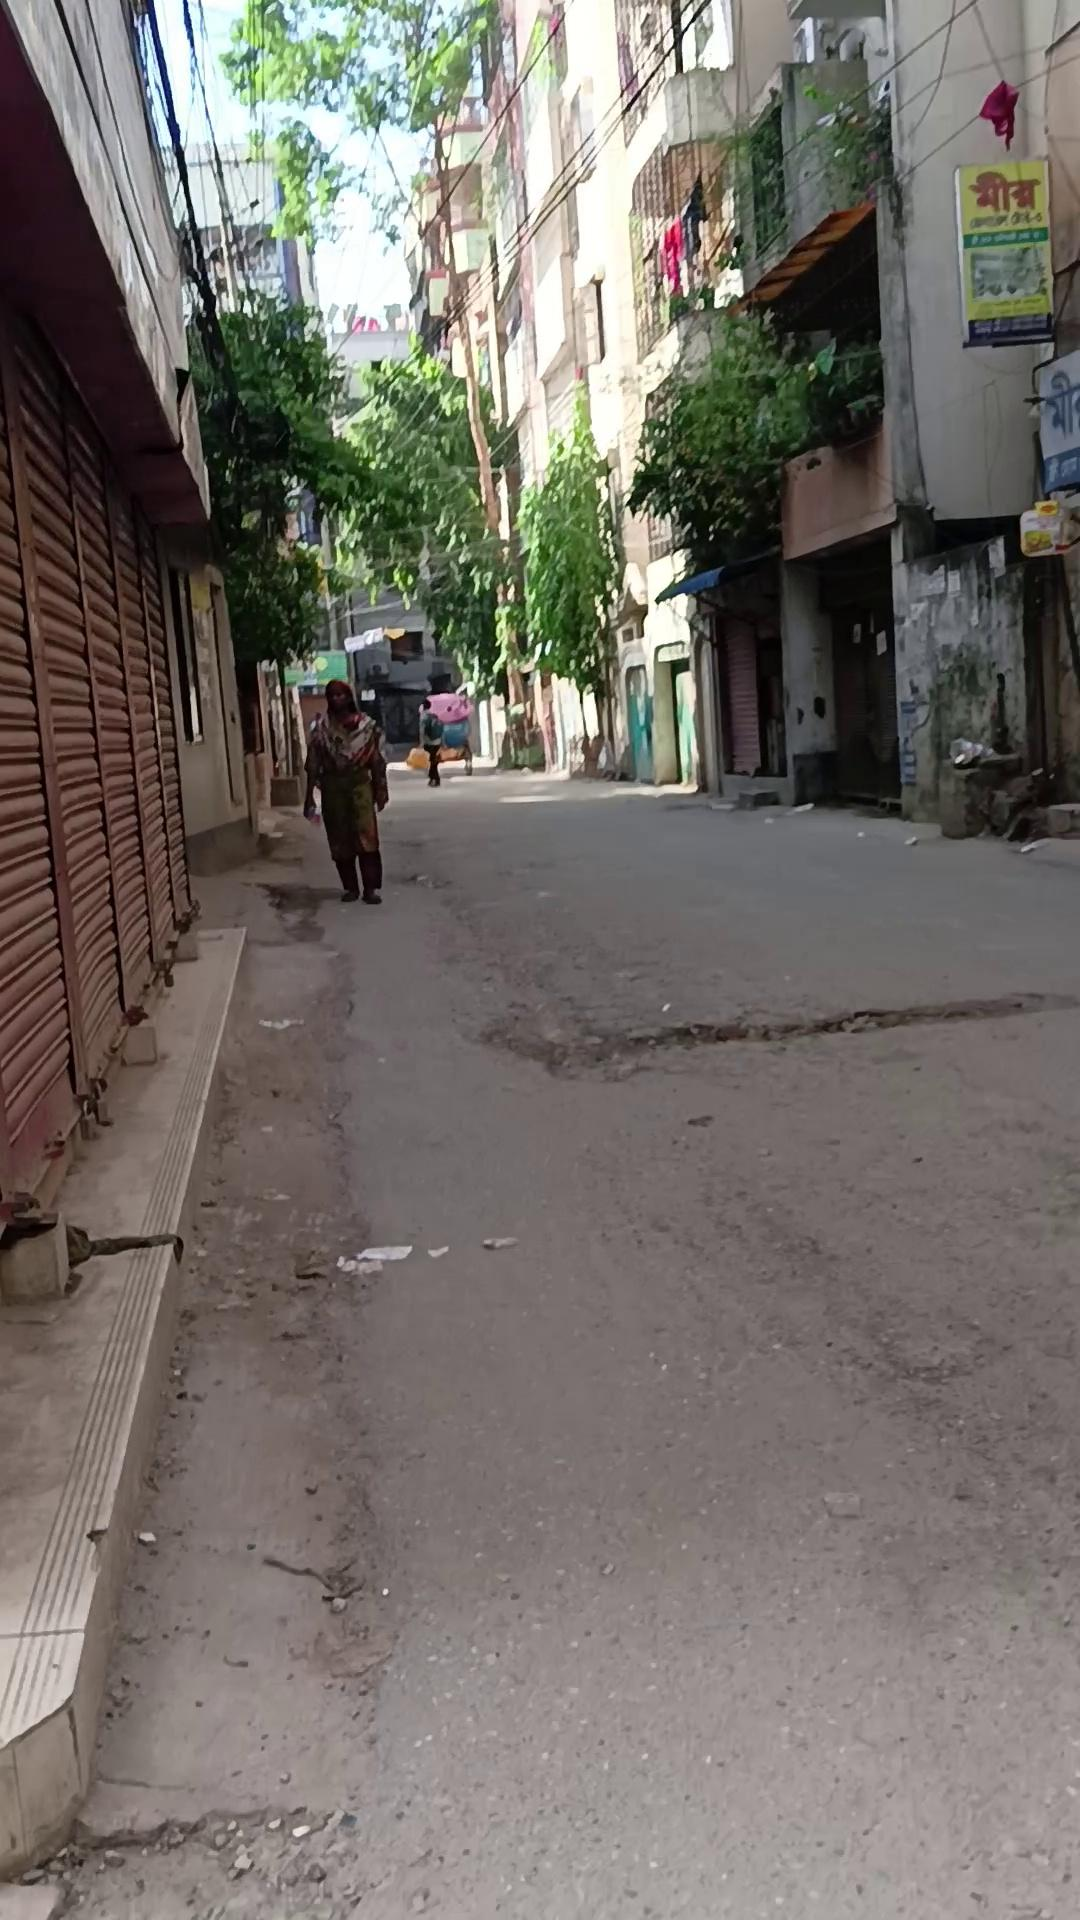Broken-road: (500, 982, 1077, 1068)
Crosswalk: (1, 920, 247, 1884)
Light-pole: (415, 684, 473, 787)
Muddy road: (302, 678, 389, 905), (418, 699, 444, 787)
Rickshaw: (307, 804, 320, 825)
Stuck-water: (952, 156, 1055, 349)
